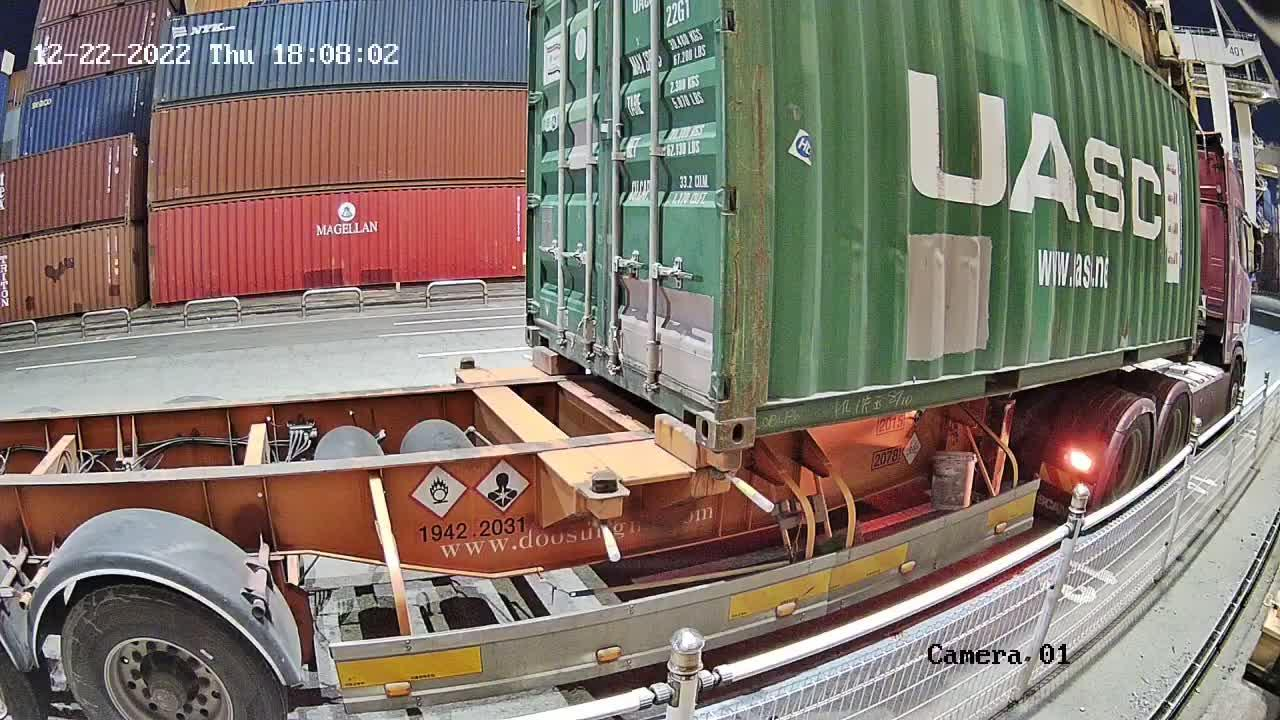Chassis: (527, 349, 743, 471)
Cone: (705, 447, 745, 482)
Hole_L: (718, 372, 788, 451), (523, 305, 555, 355)
Hole_R: (667, 351, 720, 454)
Tire: (1107, 415, 1152, 510), (1157, 393, 1190, 476)
